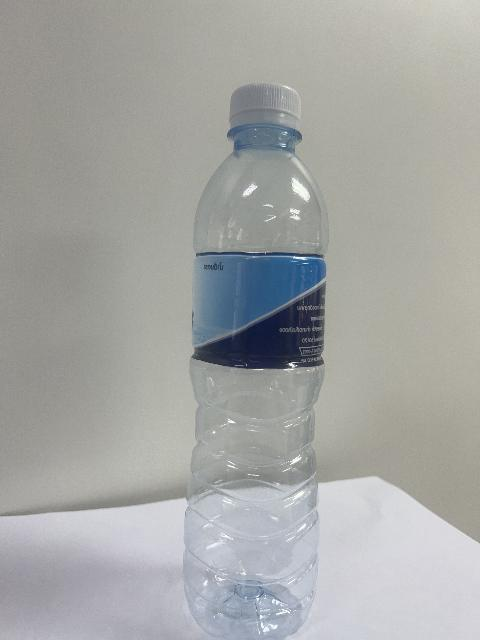bottle: (183, 84, 326, 639)
